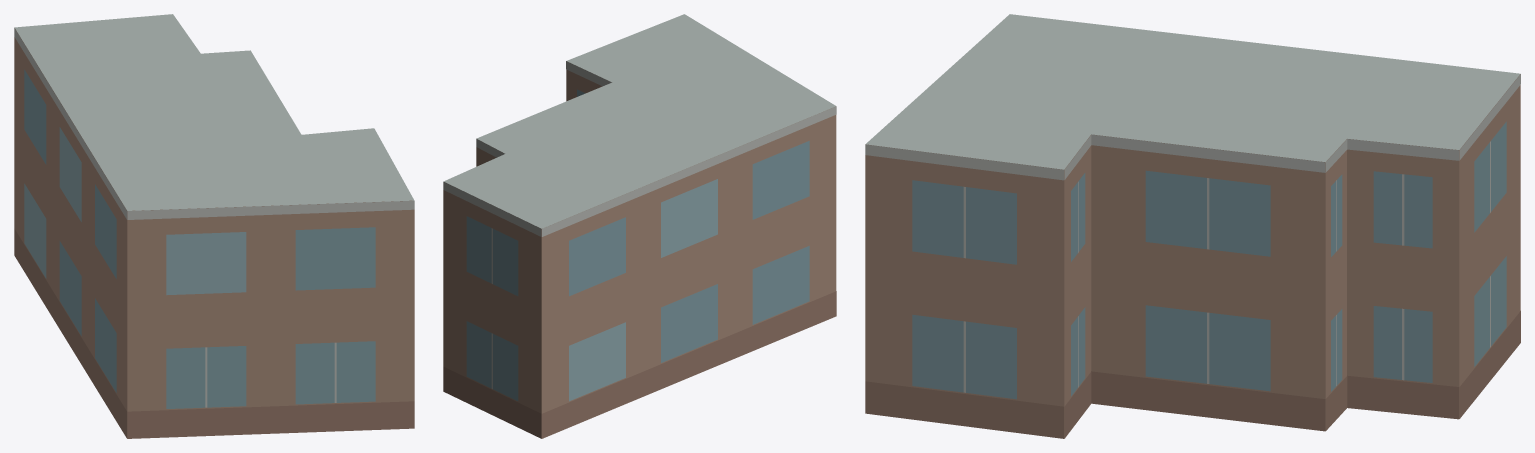
File: survey-upis-32650638.glb
3 views of the same model, side by side, from view 1: azimuth 30°, elevation 25°; view 2: azimuth 150°, elevation 25°; view 3: azimuth 270°, elevation 25° (orthographic). The views are drawn at different scales.
Visible parts, largest first — view 1: survey-upis-32650638.tmp; view 2: survey-upis-32650638.tmp; view 3: survey-upis-32650638.tmp.
Part boxes in pixels (x1=…): survey-upis-32650638.tmp: x1=14, y1=14, x2=414, y2=438; survey-upis-32650638.tmp: x1=443, y1=14, x2=836, y2=438; survey-upis-32650638.tmp: x1=865, y1=14, x2=1520, y2=438.
Bounding box in the file's own units: 7.58 × 6.1 × 13.47.
